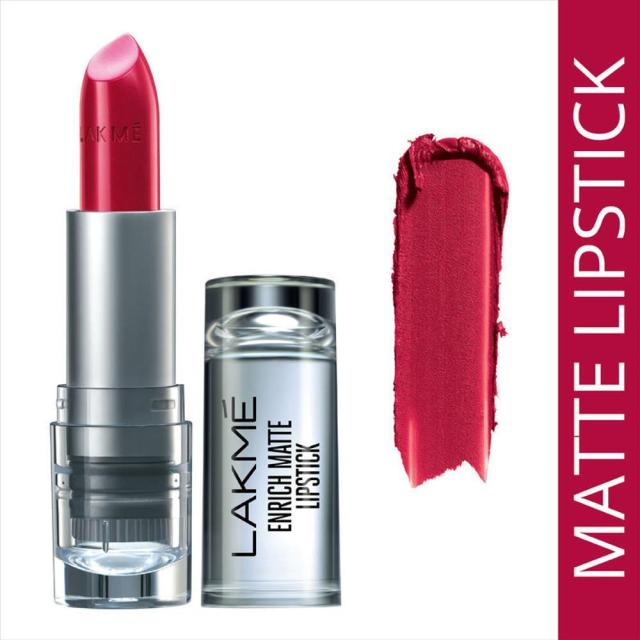lipstick: (56, 13, 196, 624)
